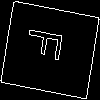F: (25, 25, 72, 65)
